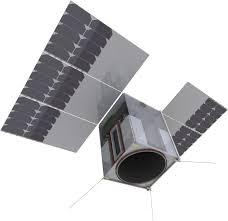antenna: (68, 176, 105, 210), (146, 187, 157, 221)
body: (97, 90, 182, 193)
solar: (0, 0, 117, 144), (40, 33, 153, 155), (170, 93, 228, 162), (159, 80, 213, 136)
